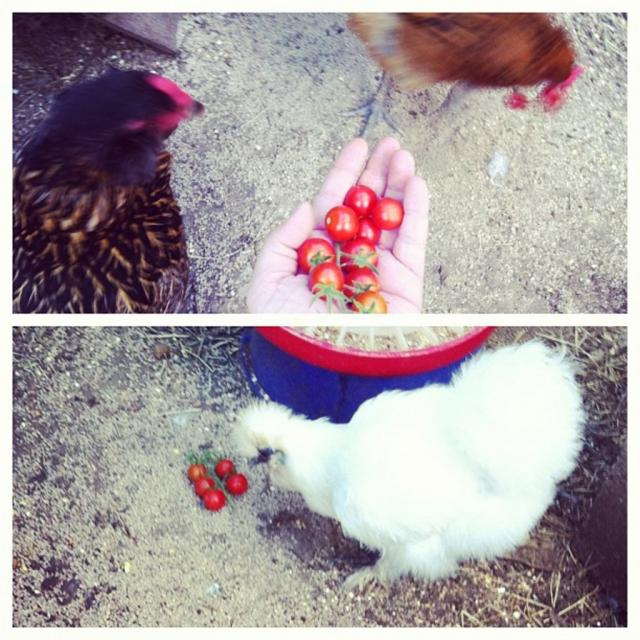Chicken: (231, 338, 611, 615), (14, 65, 208, 316)
